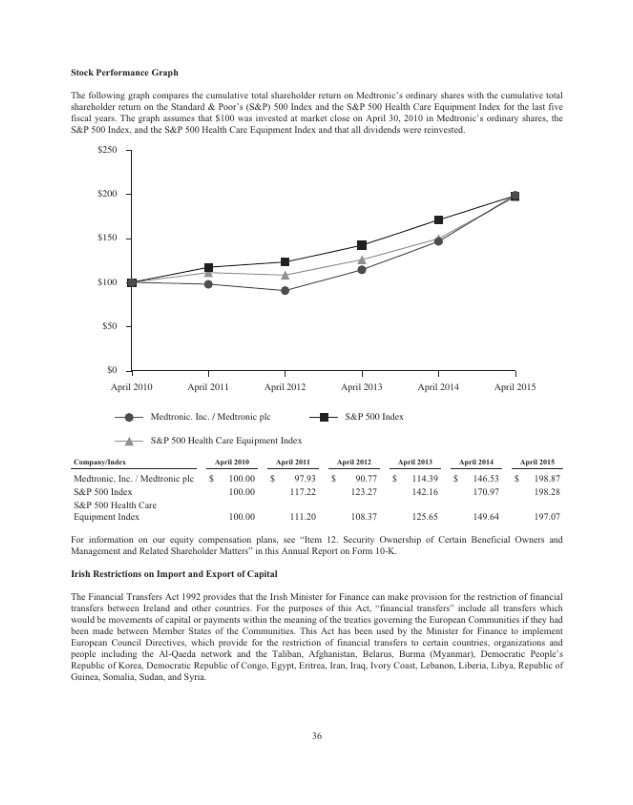table: (71, 455, 562, 529)
